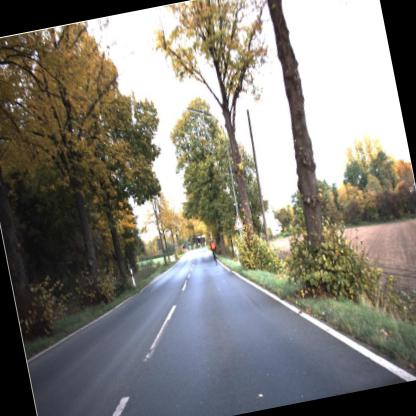danger: (230, 211, 246, 233)
